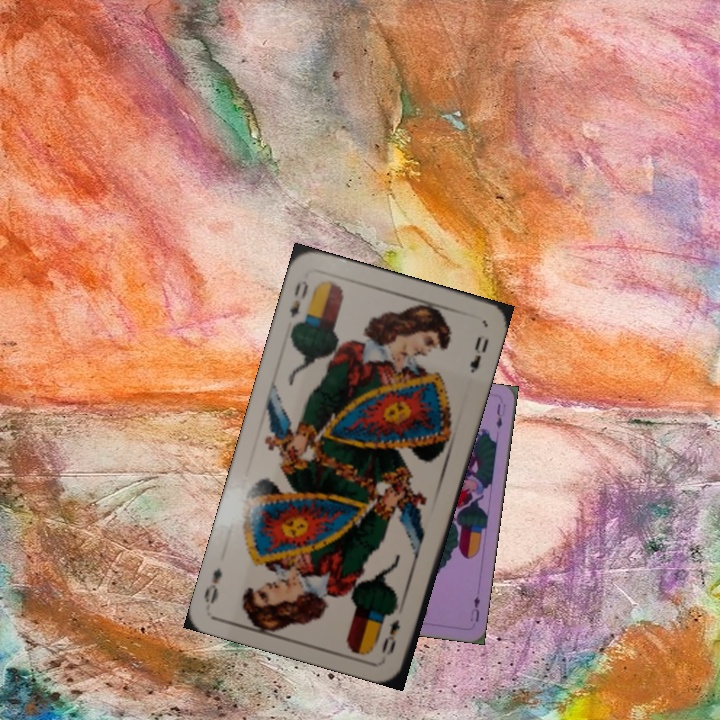EO: (285, 276, 312, 330), (377, 615, 403, 658)
EU: (466, 591, 483, 624)
